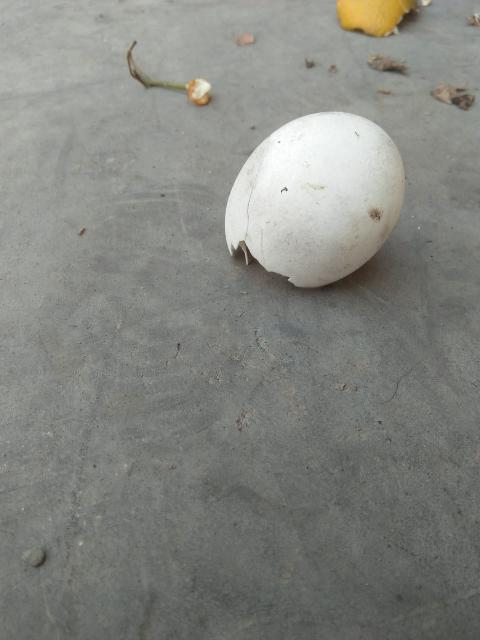Roto: (224, 110, 406, 289)
